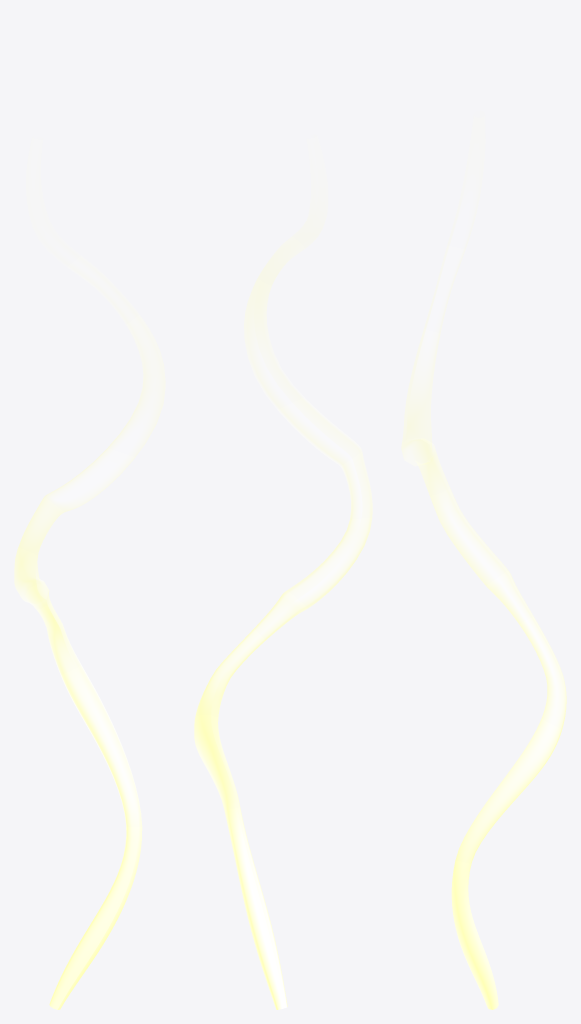
File: strand_d_cairn.glb
3 renders of one model, left to right at view 1: azimuth 30°, elevation 25°; view 2: azimuth 150°, elevation 25°; view 3: azimuth 270°, elevation 25°, orthographic.
Bounding box in the file's own units: 1.29 × 9.03 × 1.36.
